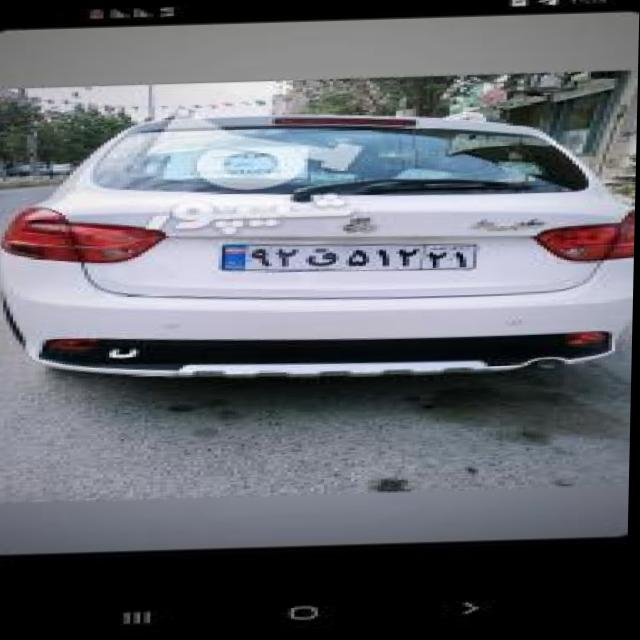licence: (220, 236, 488, 279)
